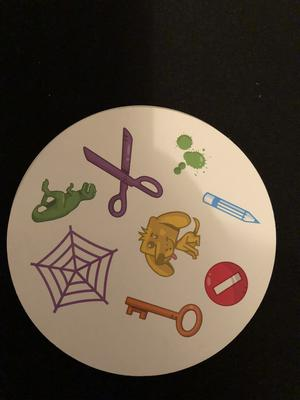chien: (135, 209, 202, 281)
ciseau: (82, 125, 166, 220)
cle: (121, 292, 205, 342)
crayon: (201, 190, 263, 227)
dinosore: (30, 174, 98, 225)
sens_interdit: (202, 259, 250, 306)
tache: (169, 131, 212, 178)
toile: (27, 223, 120, 315)
